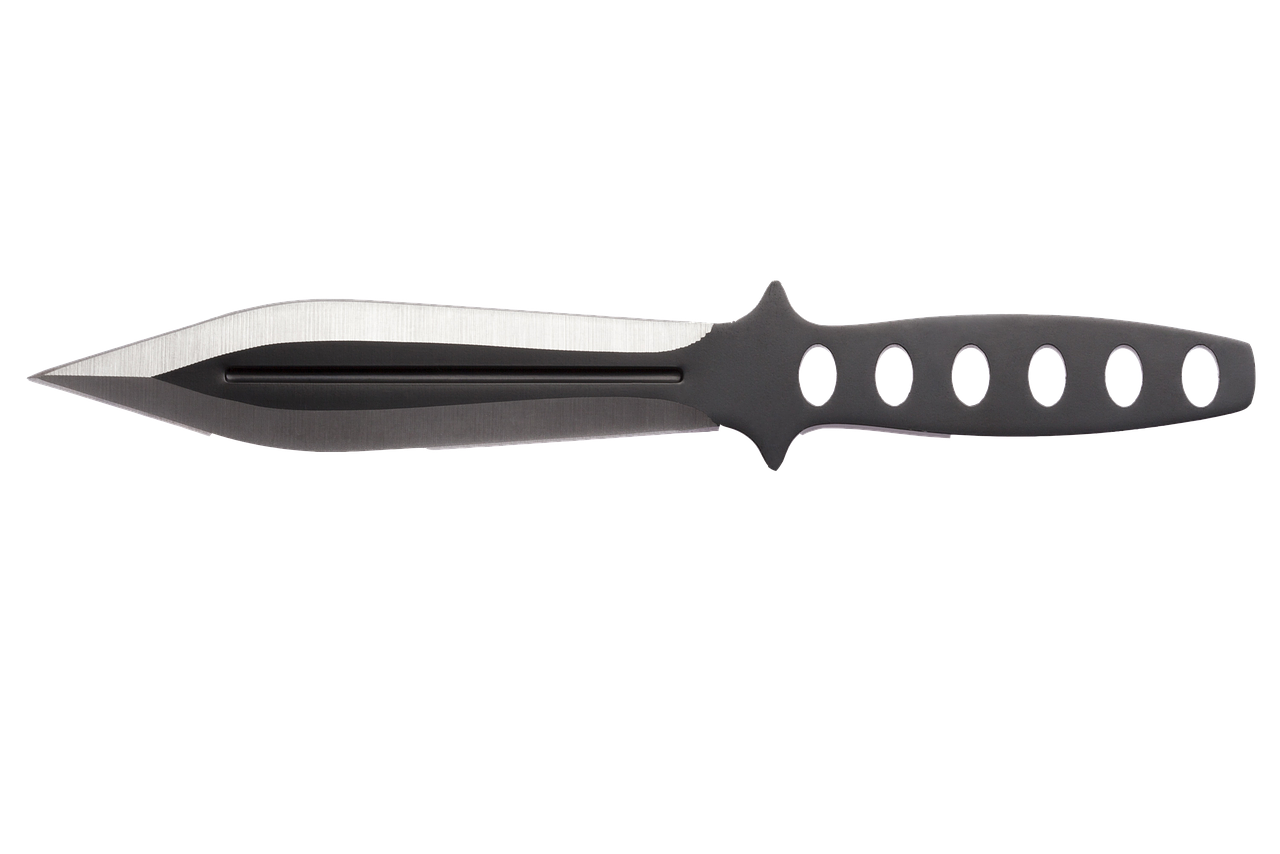knife: (6, 273, 1280, 477)
